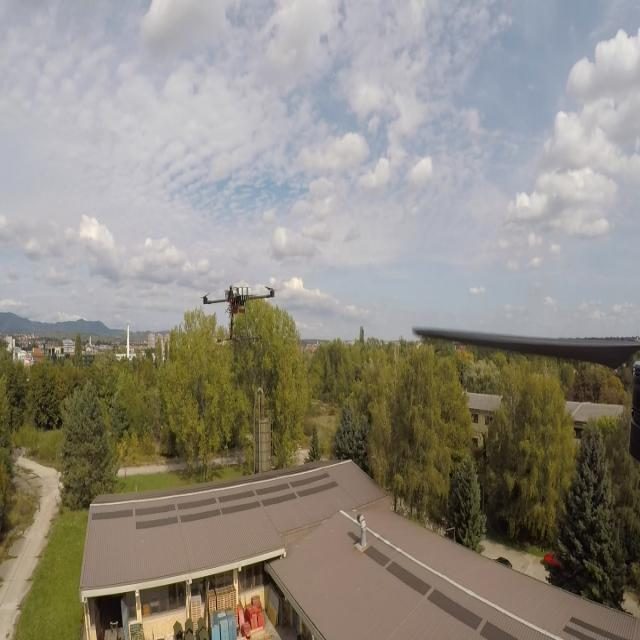UAV: (198, 284, 278, 344)
